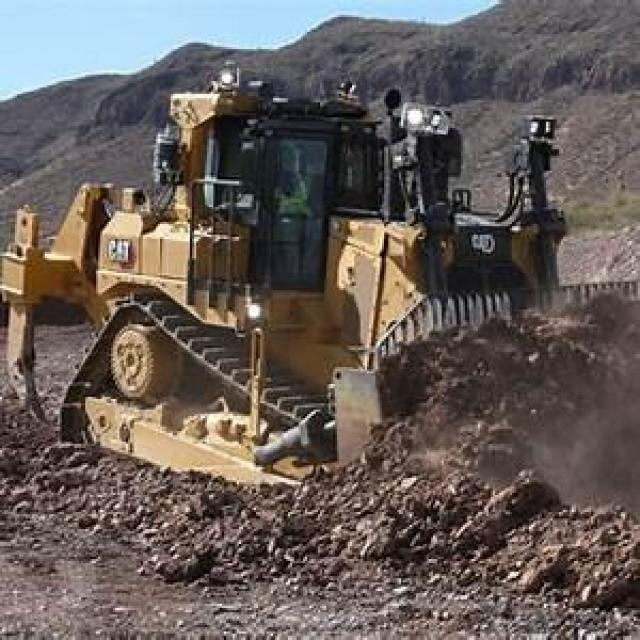Bulldozer: (11, 60, 620, 514)
